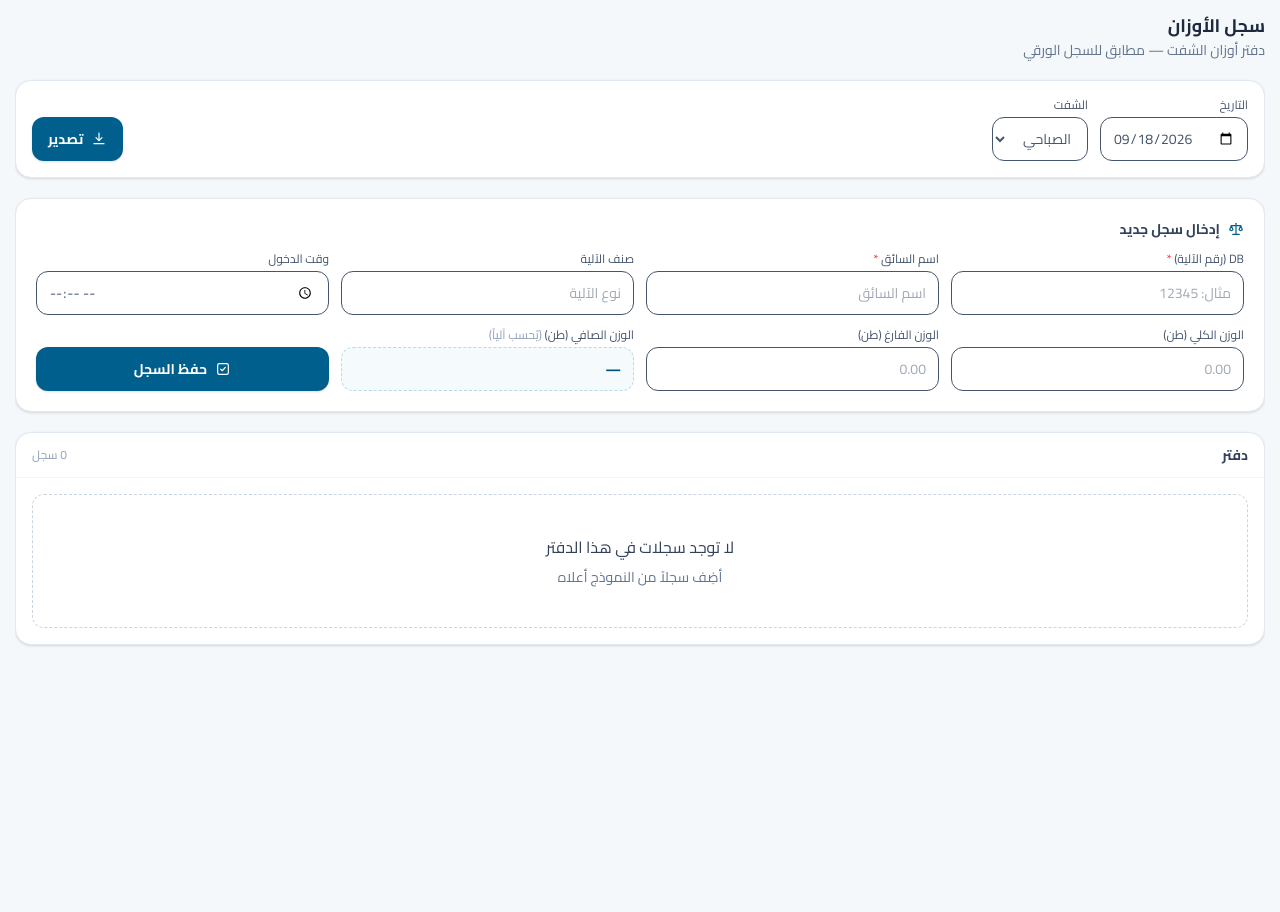
Test: WeightsPage — النموذج › يرفض الحفظ دون الحقول المطلوبة ويظهر خطأ
Click the button with test id "weight-submit" at [182, 369], box x1=36 y1=347 x2=329 y2=391
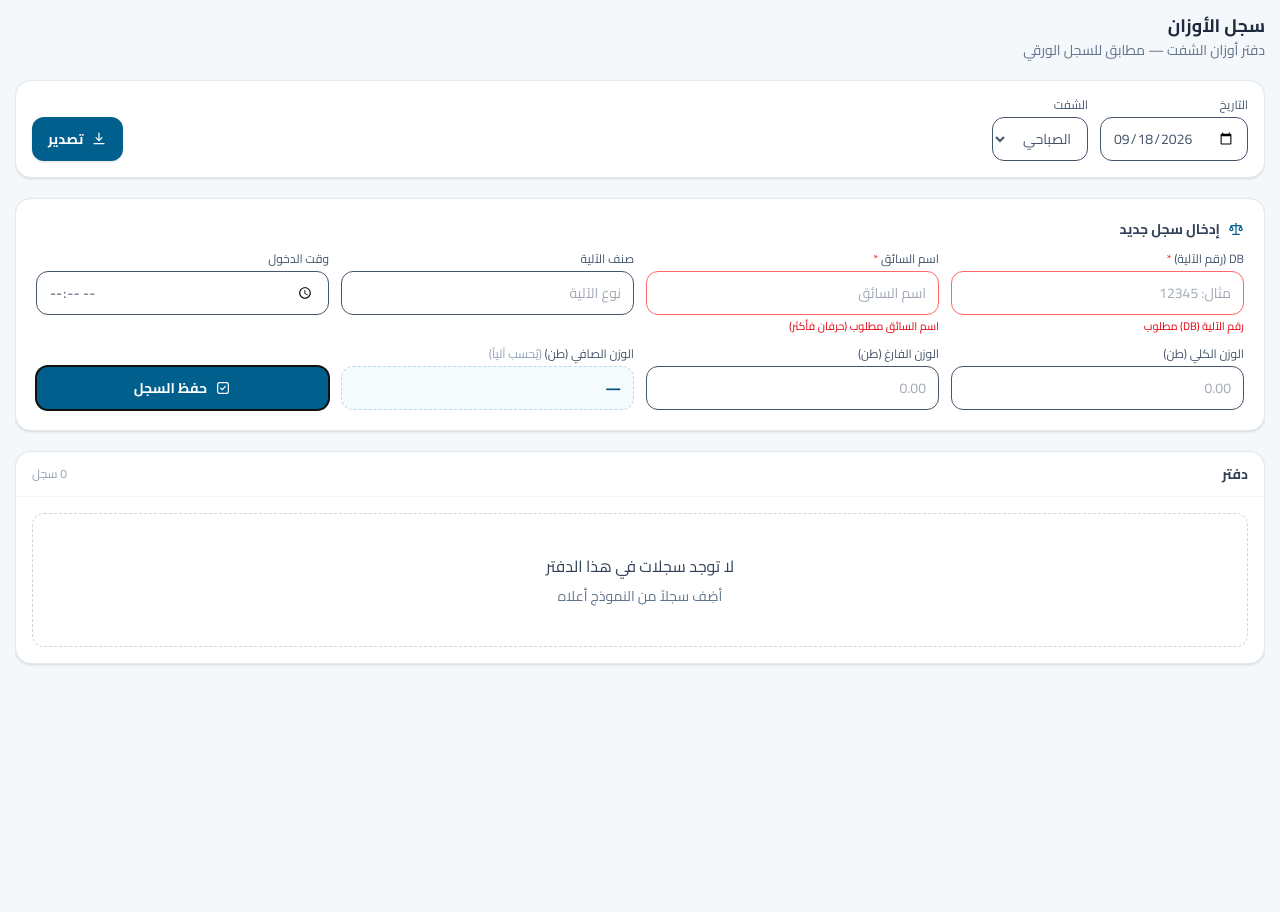
Check: the text "رقم الآلية (DB) مطلوب" is shown, box x1=1144 y1=316 x2=1244 y2=336
Check: the text "اسم السائق مطلوب (حرفان فأكثر)" is shown, box x1=789 y1=316 x2=939 y2=336
